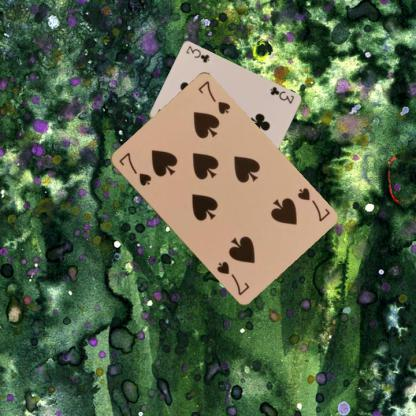3c: (267, 84, 295, 105)
7s: (294, 185, 331, 223), (116, 150, 152, 187)
